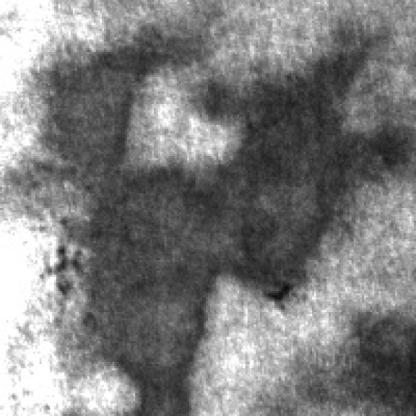patches: (204, 31, 412, 300), (64, 158, 229, 410), (8, 16, 227, 168), (337, 312, 416, 414)
